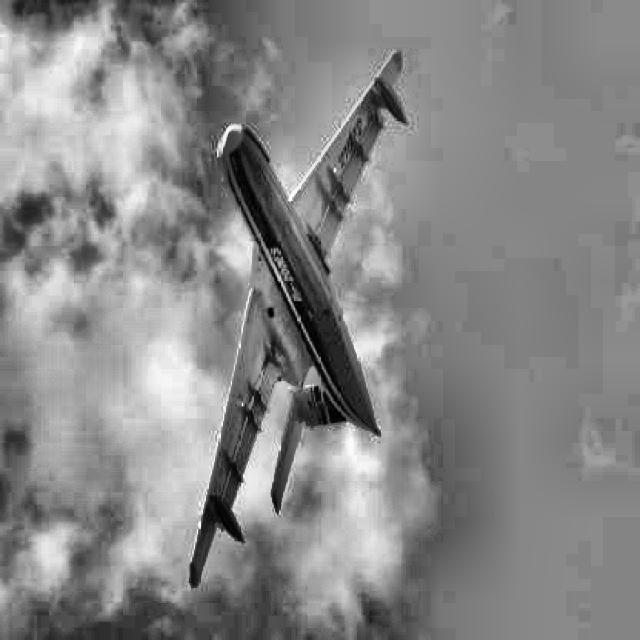Be200: (188, 49, 408, 588)
